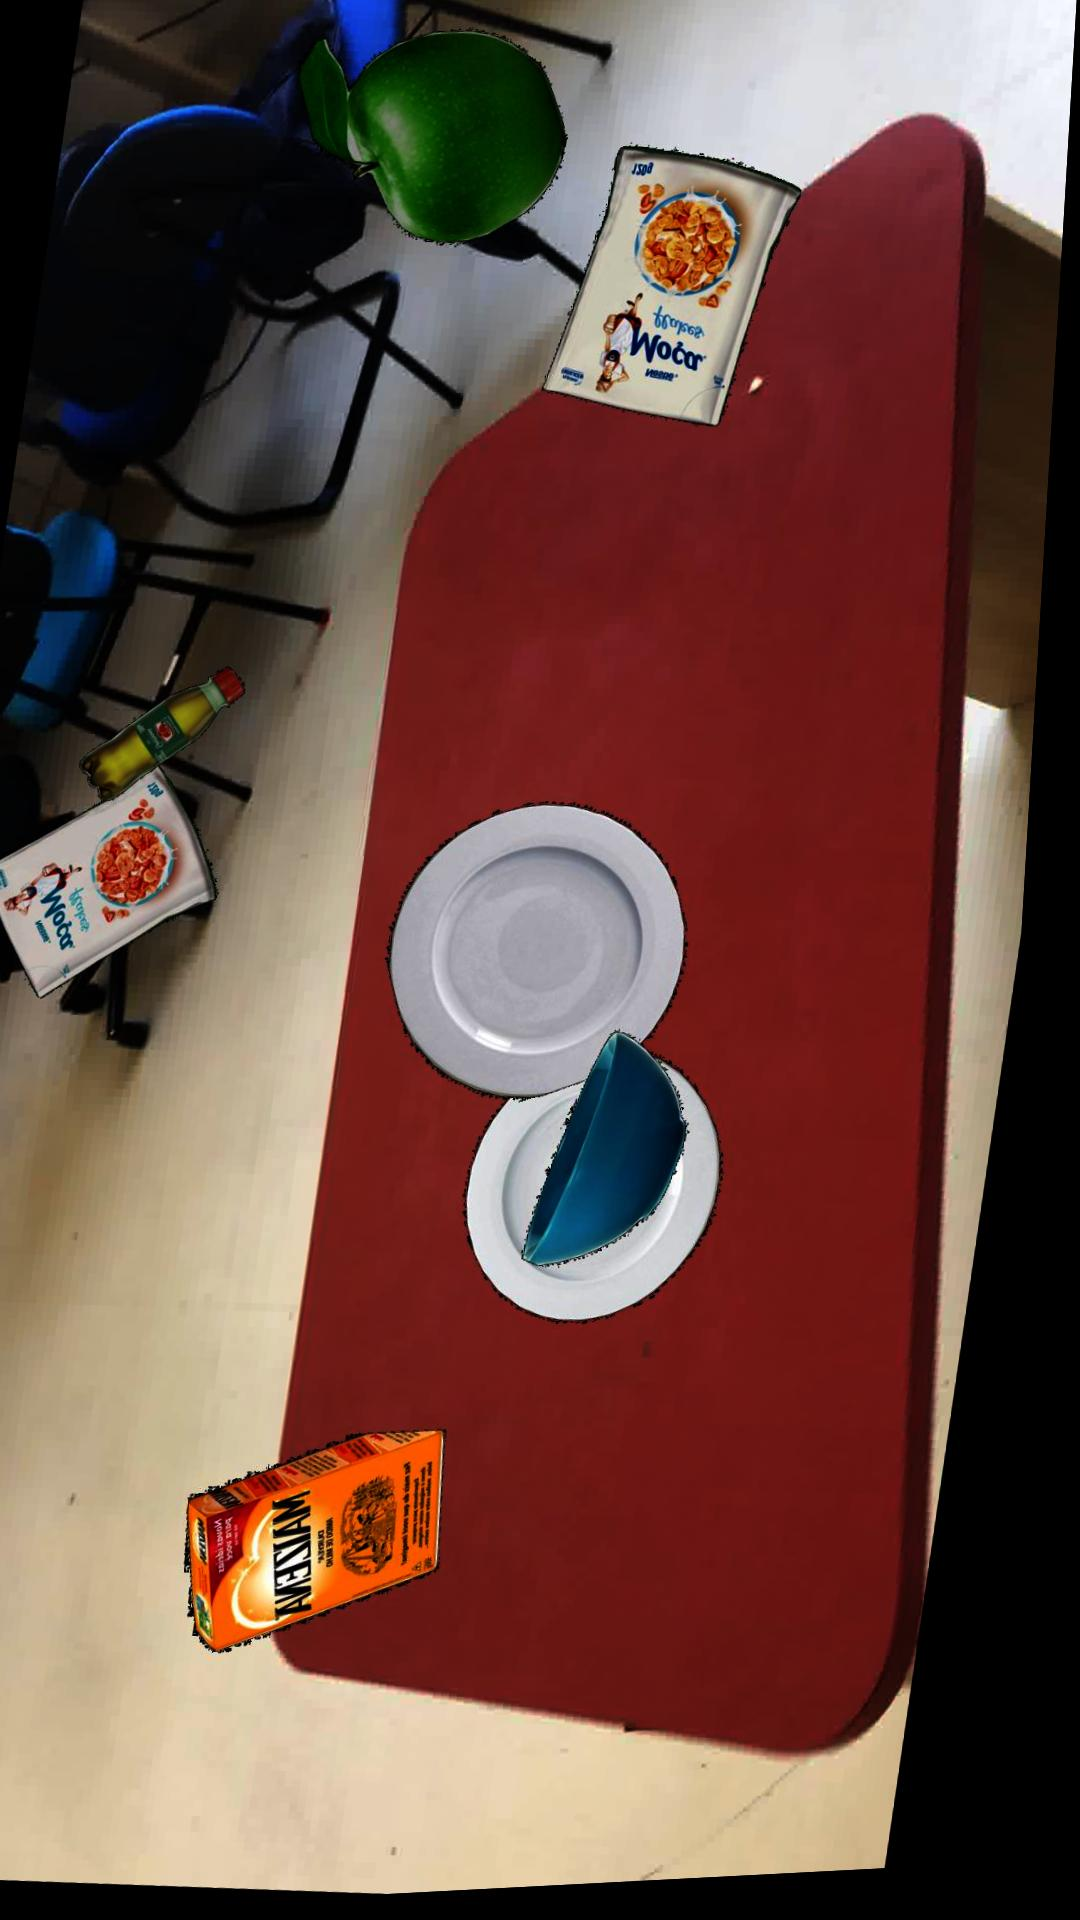bowl: (538, 1039, 702, 1274)
corn flakes: (547, 153, 804, 435), (0, 769, 228, 1000)
green apple: (299, 36, 570, 251)
guarana: (90, 670, 255, 803)
plate: (397, 811, 700, 1109), (479, 1067, 738, 1332)
